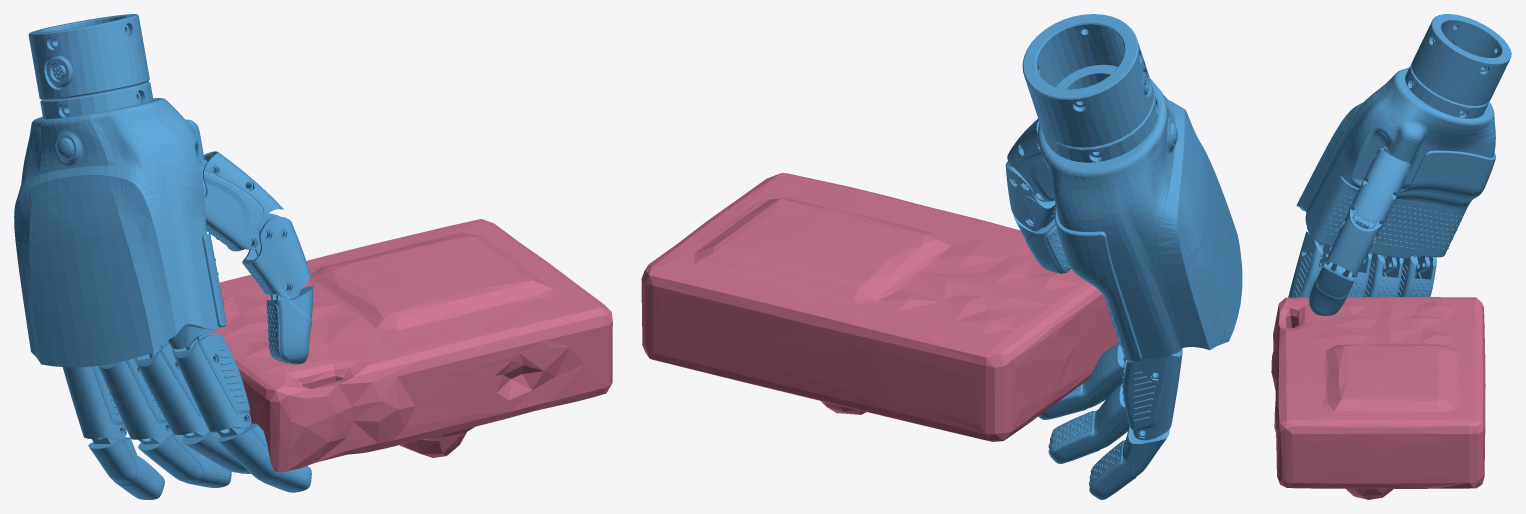
The picture shows the model from 3 angles, left to right: view 1: azimuth 30°, elevation 25°; view 2: azimuth 150°, elevation 25°; view 3: azimuth 270°, elevation 25°; orthographic projection. The views are drawn at different scales.
Visible parts, largest first — view 1: 4; view 2: 4; view 3: 4.
Part boxes in pixels (x1,y1,x2,y2): 4: [14, 14, 612, 499]; 4: [641, 14, 1242, 499]; 4: [1271, 14, 1511, 499].
Bounding box in the file's own units: 0.2594 × 0.2316 × 0.1374.
